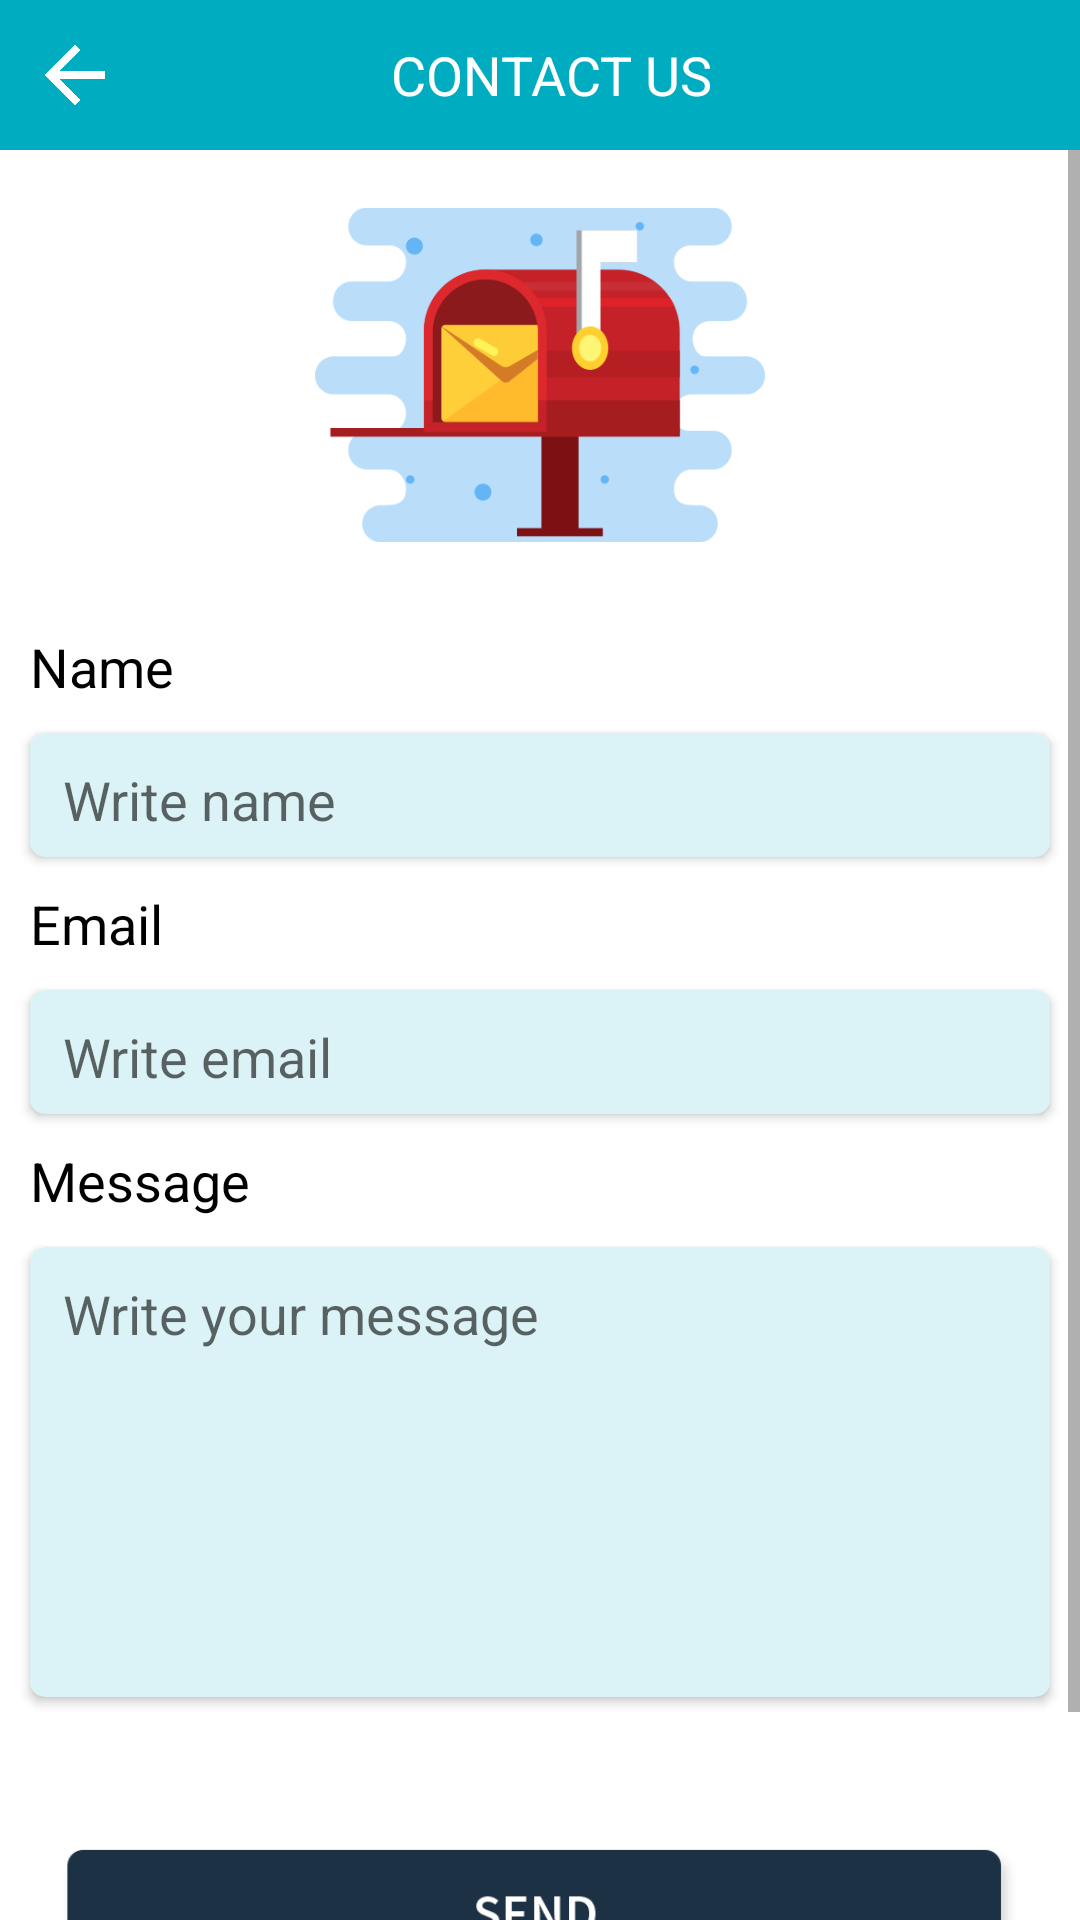

Screen size 1080px×1920px. Icon name, then its box in pixels as (x1, y1, x2, y2):
leftarrow: (45, 45, 105, 105)
